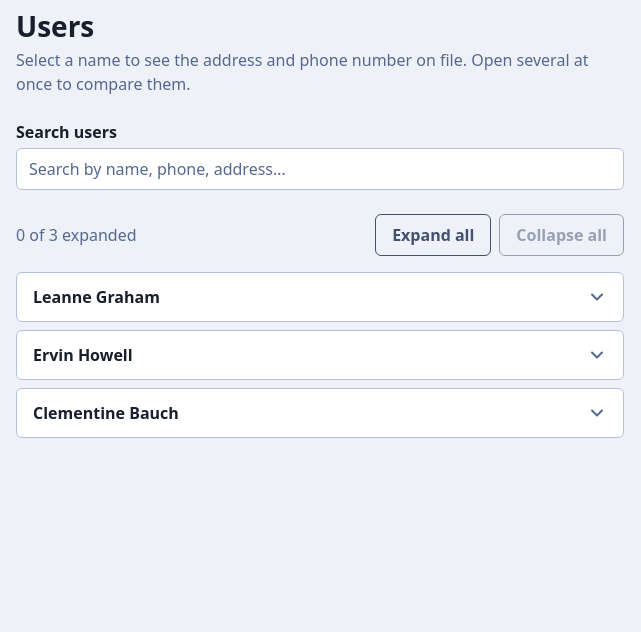
Scenario: App › shows only the address and phone number when a user is expanded
Click the button "Leanne Graham" at (96, 297), box [17,273,623,321]
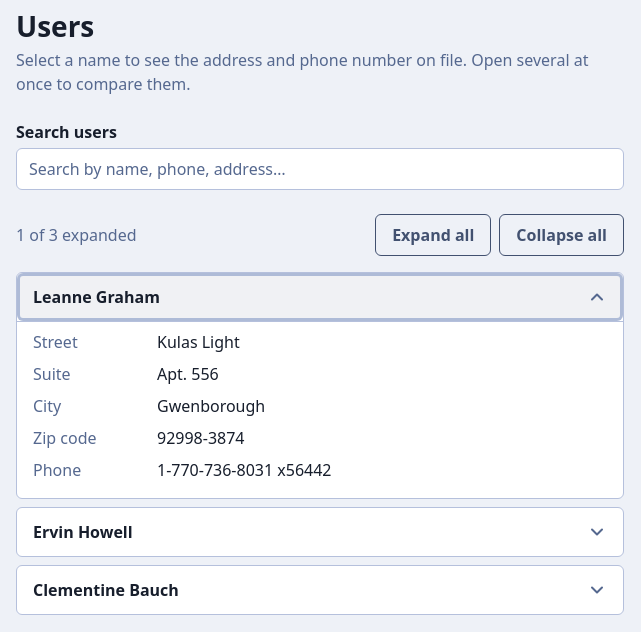
Expected: the element named "Leanne Graham" does not show "Coordinates", [17,321,623,498]
Now the element named "Leanne Graham" shows "Kulas Light", box [157,331,240,353]
Now the element named "Leanne Graham" shows "1-770-736-8031 x56442", box [157,459,332,481]
